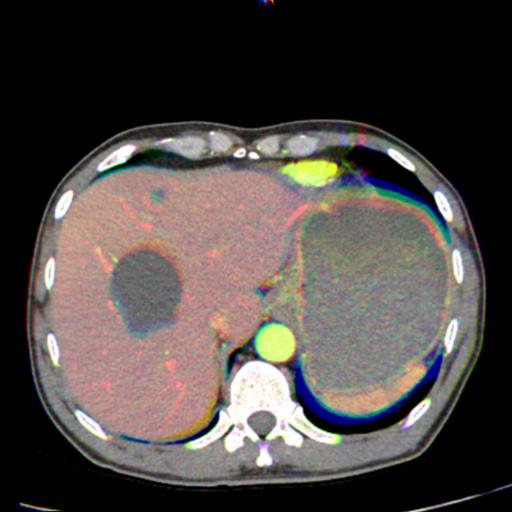Cyst: (110, 249, 181, 336)
